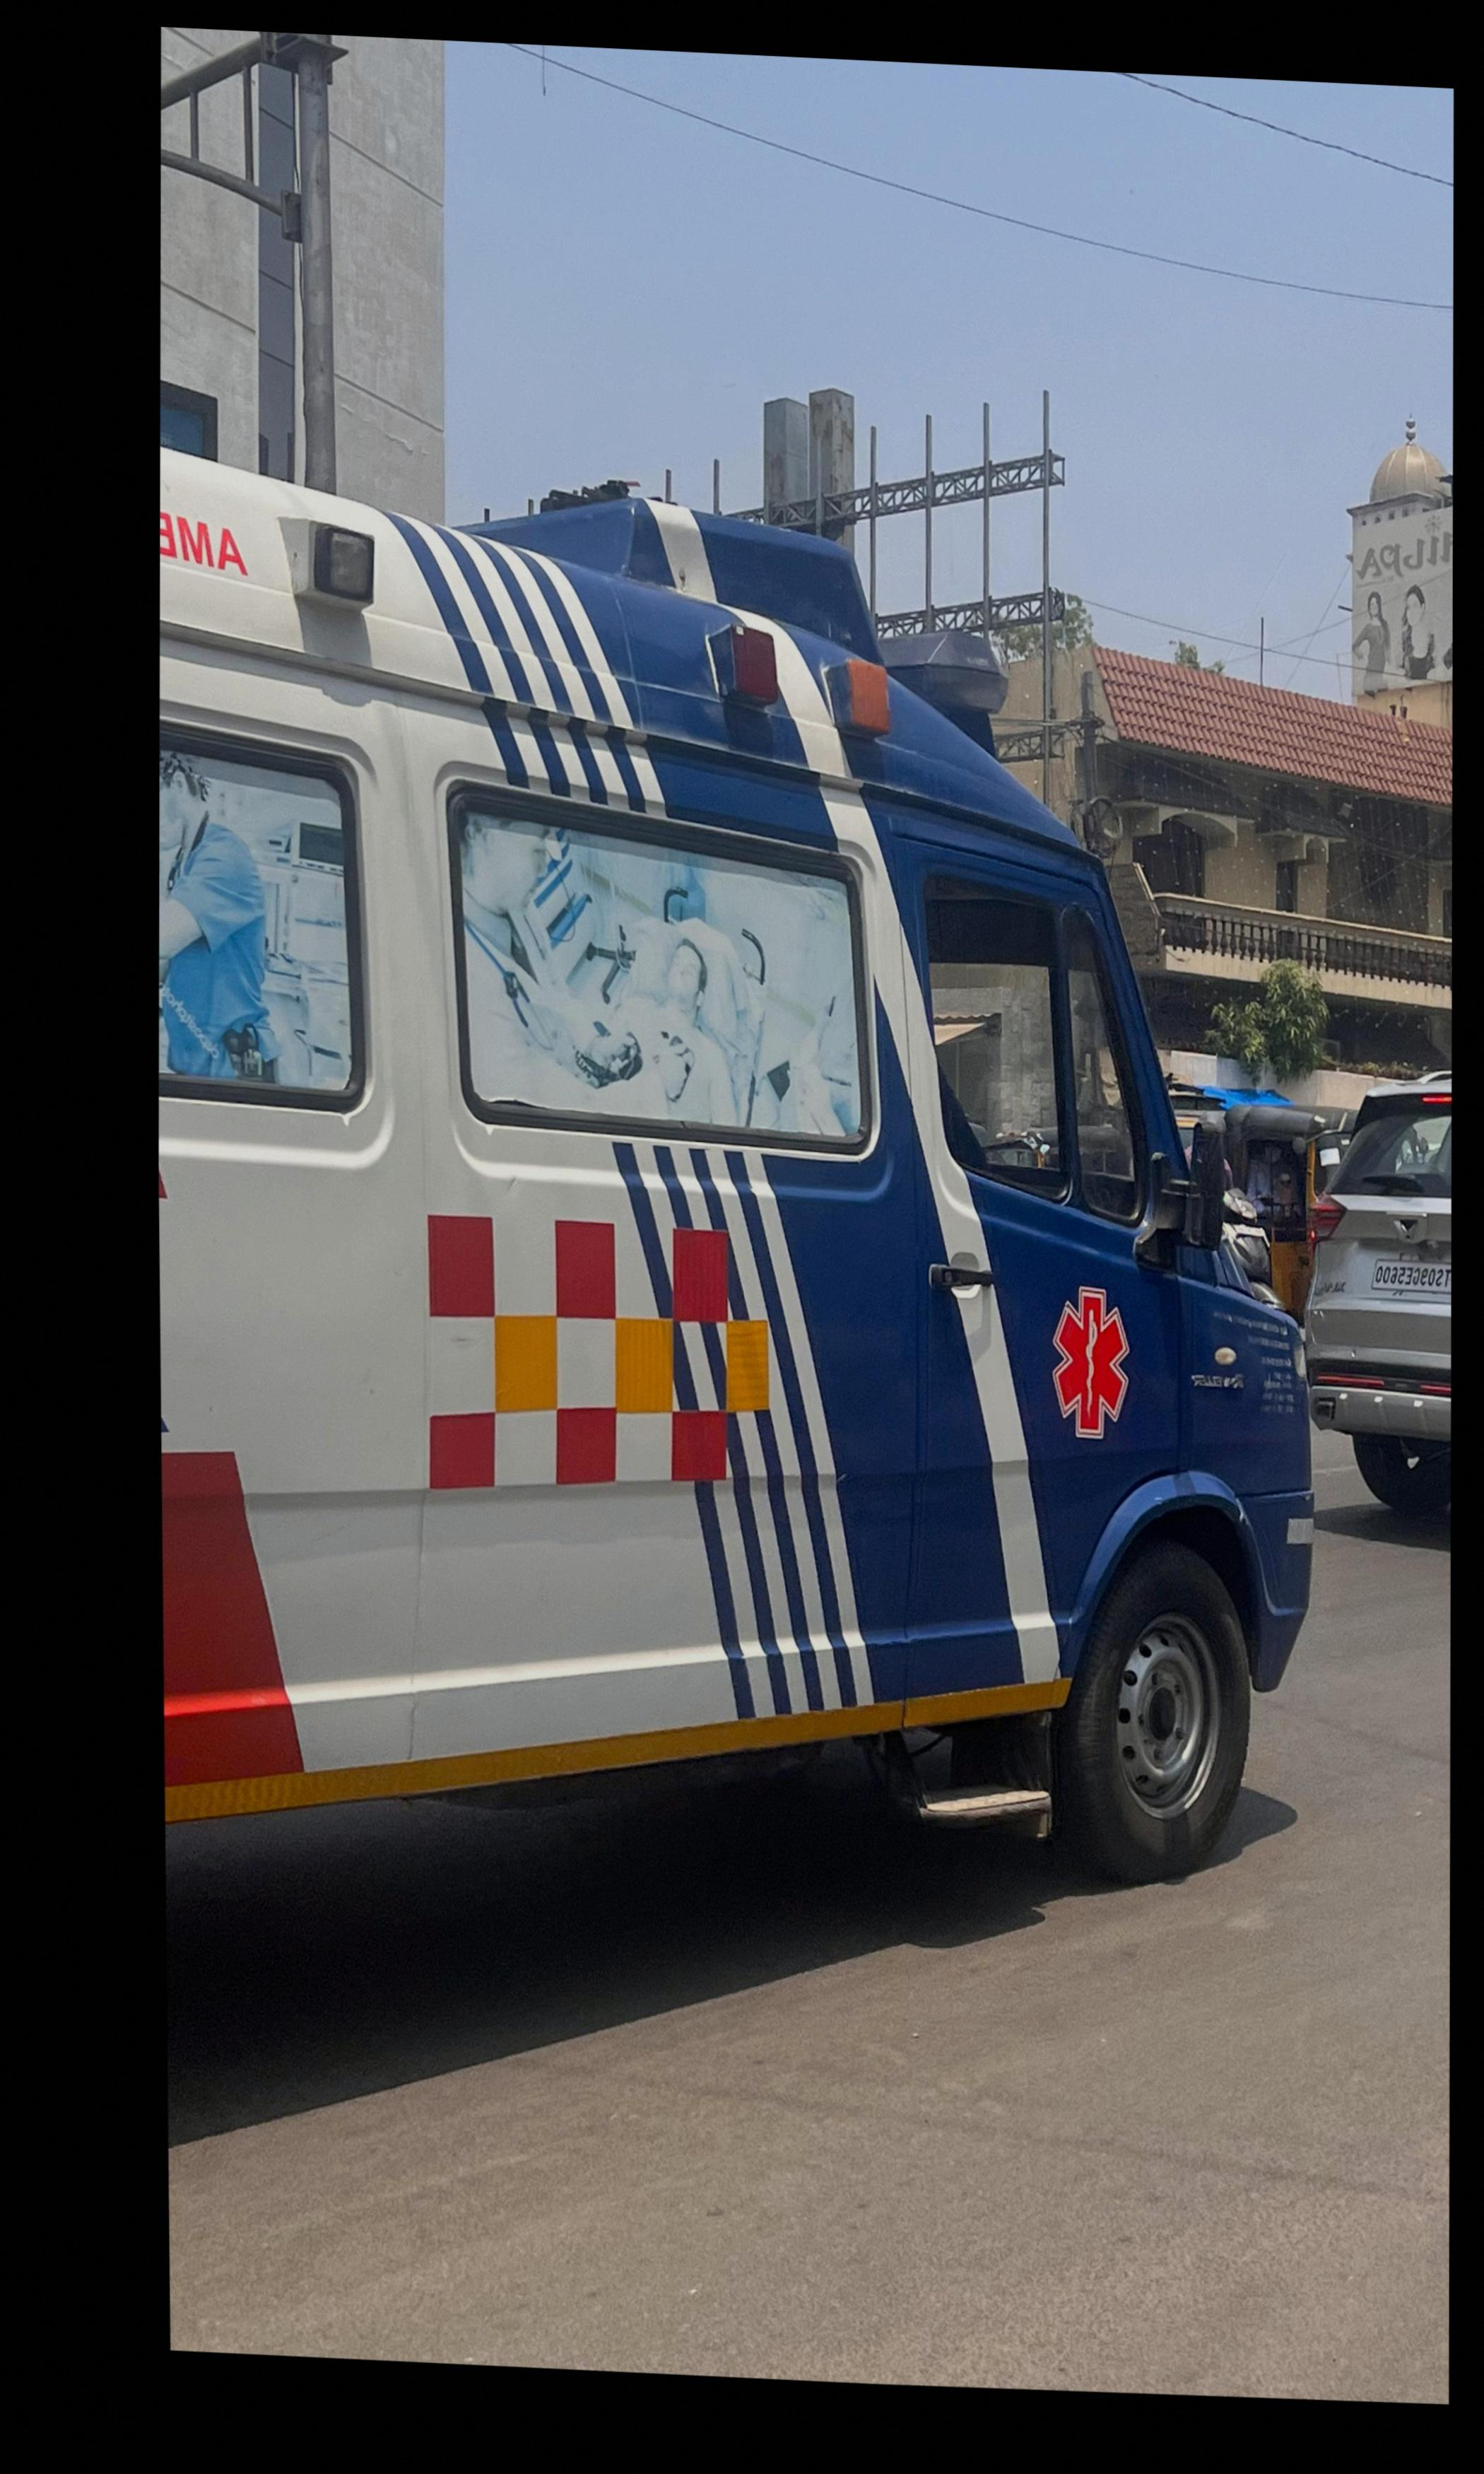ambulance: (161, 452, 1314, 1864)
